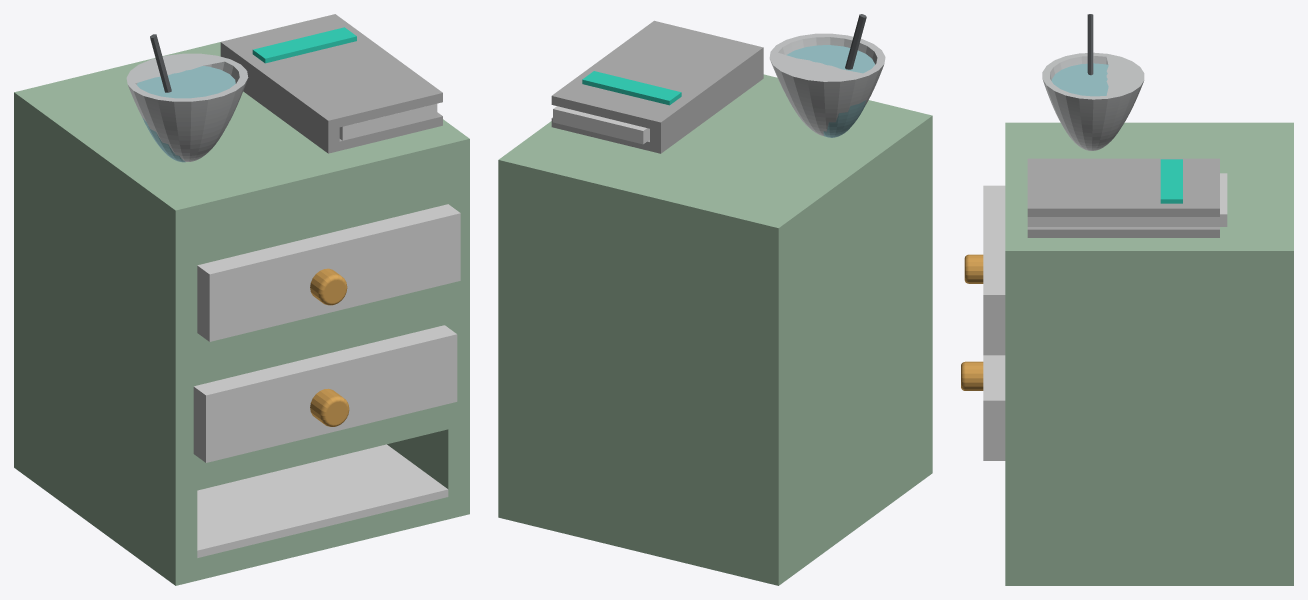
The model's file is SIDE TABLE MODEL.glb.
3 views of the same model, side by side, from view 1: azimuth 30°, elevation 25°; view 2: azimuth 150°, elevation 25°; view 3: azimuth 270°, elevation 25° (orthographic). The views are drawn at different scales.
Parts seen in each view (by area): view 1: Mesh_Mesh_head_geo.001_lambert2SG.001; view 2: Mesh_Mesh_head_geo.001_lambert2SG.001; view 3: Mesh_Mesh_head_geo.001_lambert2SG.001.
Part boxes in pixels (x1=…): Mesh_Mesh_head_geo.001_lambert2SG.001: x1=14, y1=14, x2=469, y2=585; Mesh_Mesh_head_geo.001_lambert2SG.001: x1=498, y1=14, x2=932, y2=585; Mesh_Mesh_head_geo.001_lambert2SG.001: x1=961, y1=14, x2=1293, y2=585.
Size of the model in its own units: 41 by 67.89 by 45.
